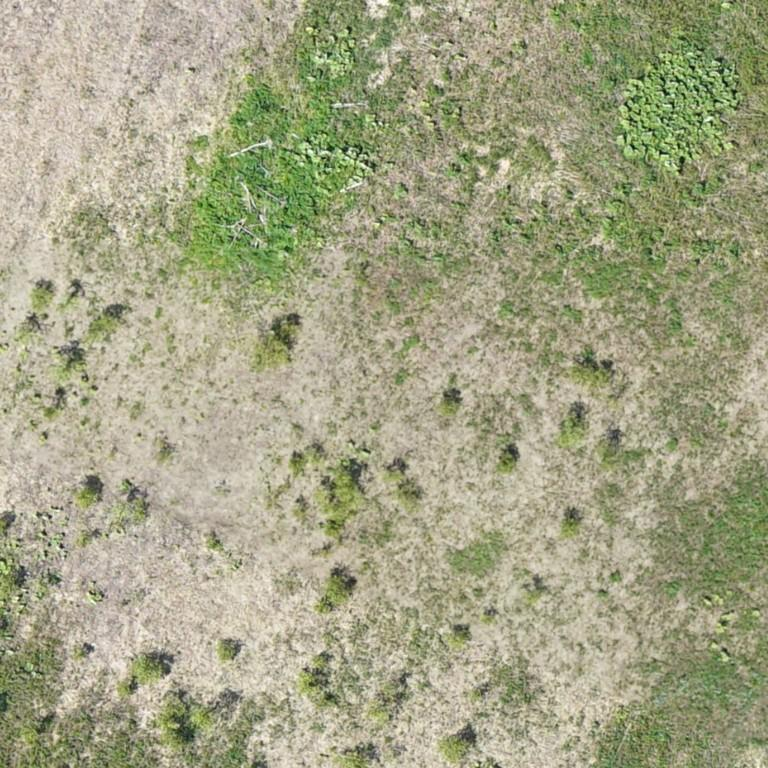hogweed: (199, 81, 329, 272)
